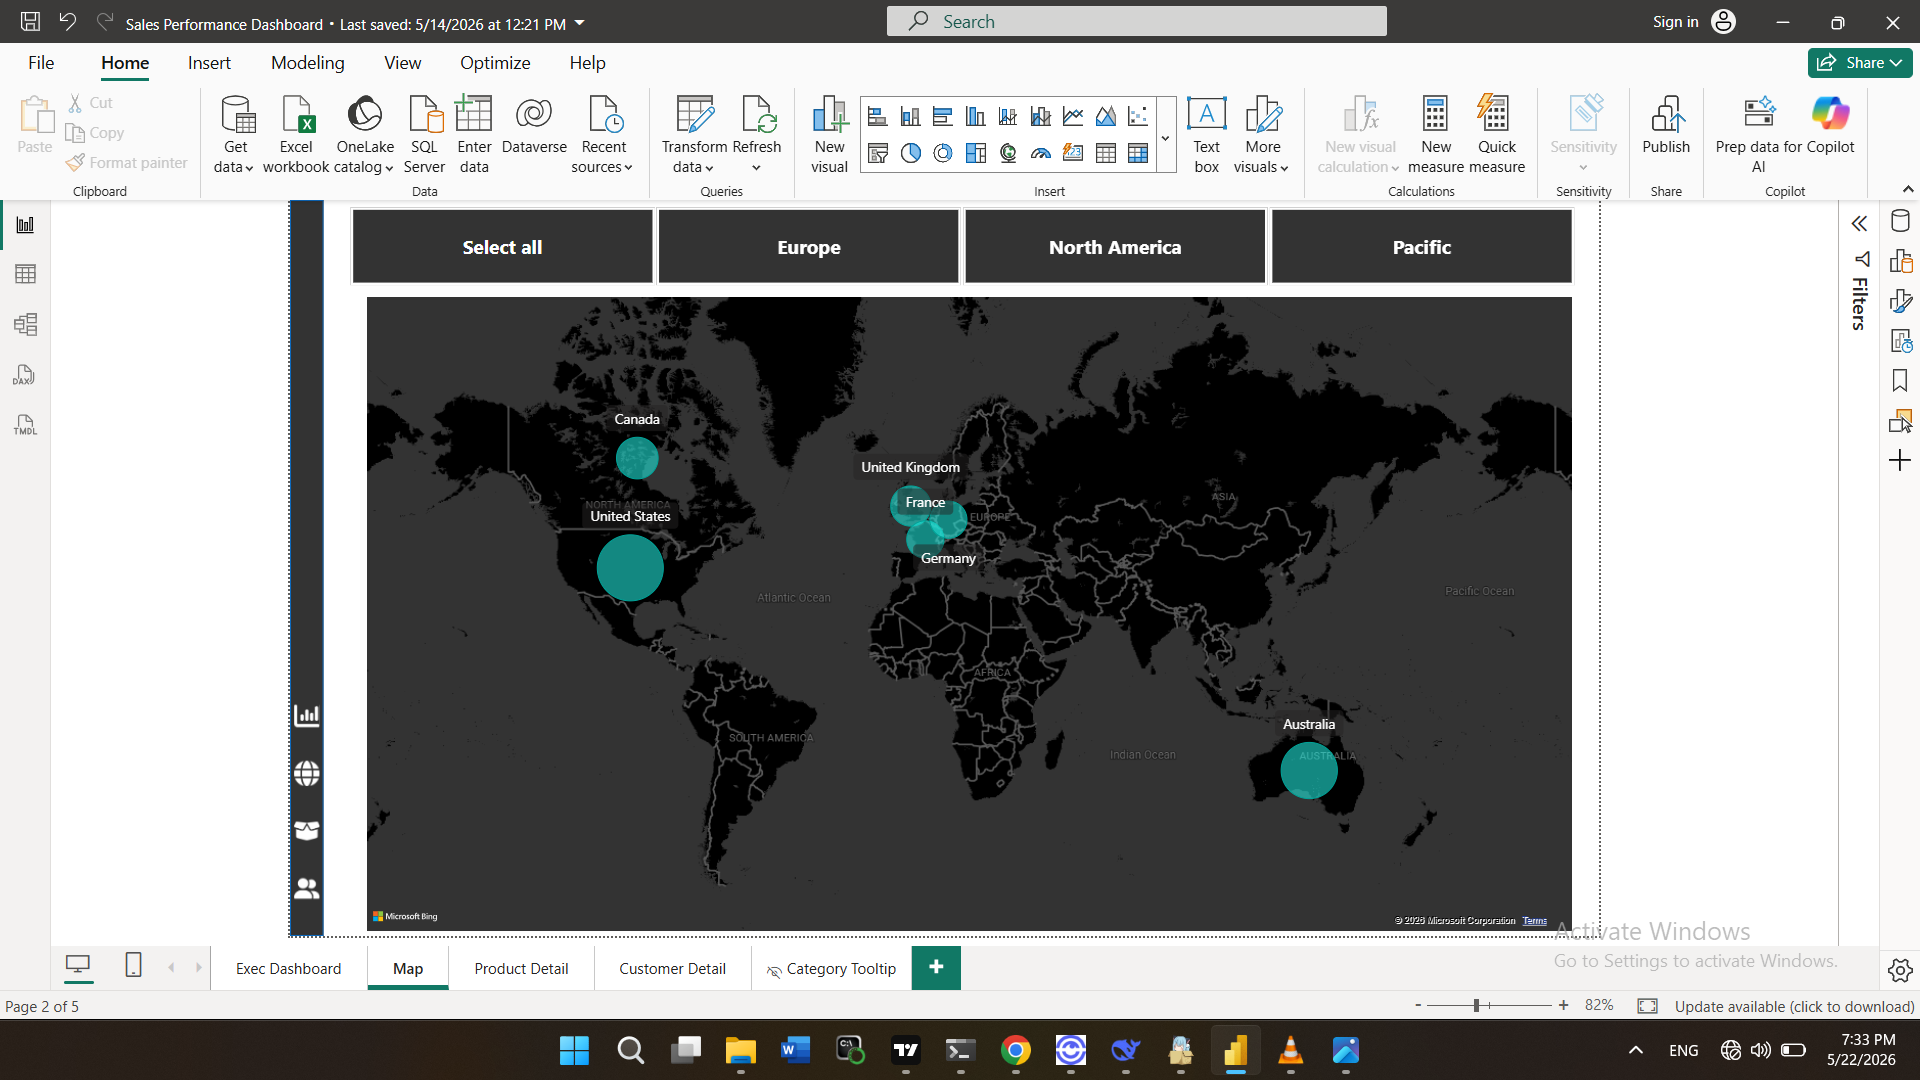

Layout of this report page (visuals, bound fields, positions):
{"tool":"powerbi","page":{"name":"Map","canvas":[1280,720],"ordinal":1},"visuals":[{"type":"shape","box":[0,0,32.9,720],"z":0},{"type":"map","fields":{"Category":["Territory Lookup.Country"],"Size":["Measures Table.Total Orders"]},"box":[71.4,90,1188.6,630],"z":1000},{"type":"actionButton","box":[0,484.2,33,40.4],"z":1000,"group":"g1"},{"type":"slicer","fields":{"Values":["Territory Lookup.Continent"]},"box":[32.9,0,1247.1,90],"z":2000},{"type":"actionButton","box":[0,540.5,33,40.4],"z":2000,"group":"g1"},{"type":"group","id":"g1","title":"Navigation Buttons","box":[0,484.2,33,209.1],"z":3000},{"type":"actionButton","box":[0,596.7,33,40.4],"z":3000,"group":"g1"},{"type":"actionButton","box":[0,653,33,40.4],"z":4000,"group":"g1"}]}

Visuals, with their boxes on the page's 1280x720 design canvas (x1, y1, x2, y2). These are canvas units, not pixel positions in the 1920x1080 screenshot, which may show the page scaled, cropped or inside an application window:
shape: bbox=[0, 0, 33, 720]
map - Territory Lookup.Country x Measures Table.Total Orders: bbox=[71, 90, 1260, 720]
actionButton: bbox=[0, 484, 33, 525]
slicer - Territory Lookup.Continent: bbox=[33, 0, 1280, 90]
actionButton: bbox=[0, 540, 33, 581]
"Navigation Buttons" group: bbox=[0, 484, 33, 693]
actionButton: bbox=[0, 597, 33, 637]
actionButton: bbox=[0, 653, 33, 693]
